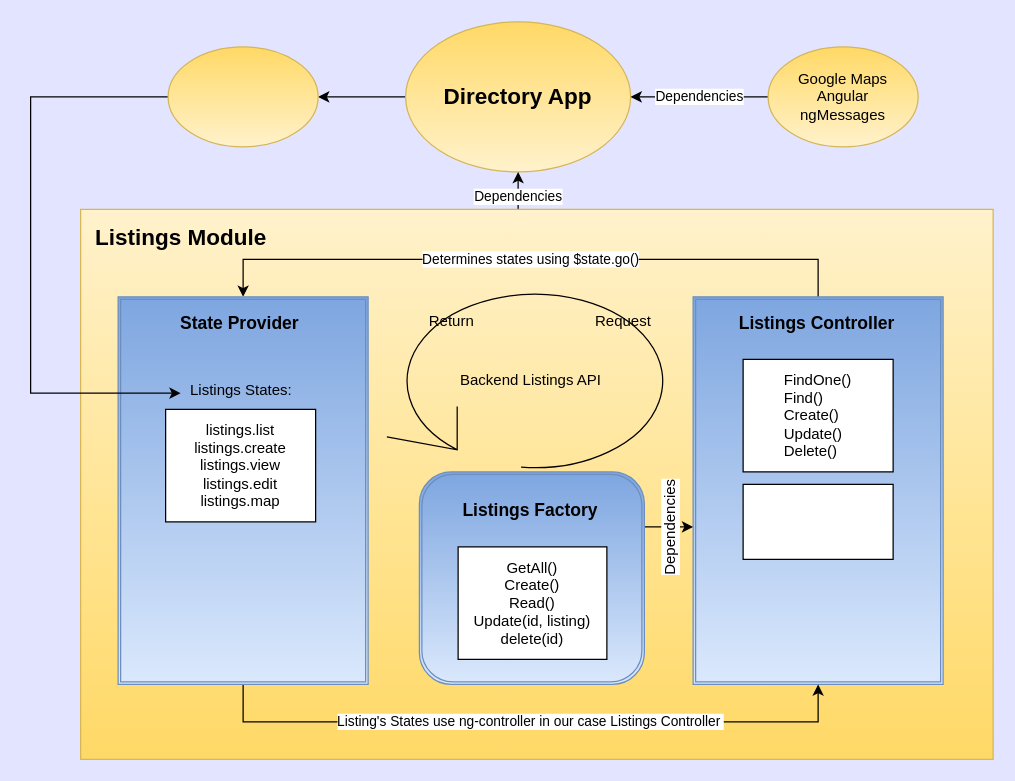
This 1015x781 diagram has some shape labels left out. The shapes that lost their labels are listed below. From the top down, each one's centre as x and y in pixels, then its label:
(x=242, y=96): Index.html: Displays the states
(x=817, y=521): Other functions Used
